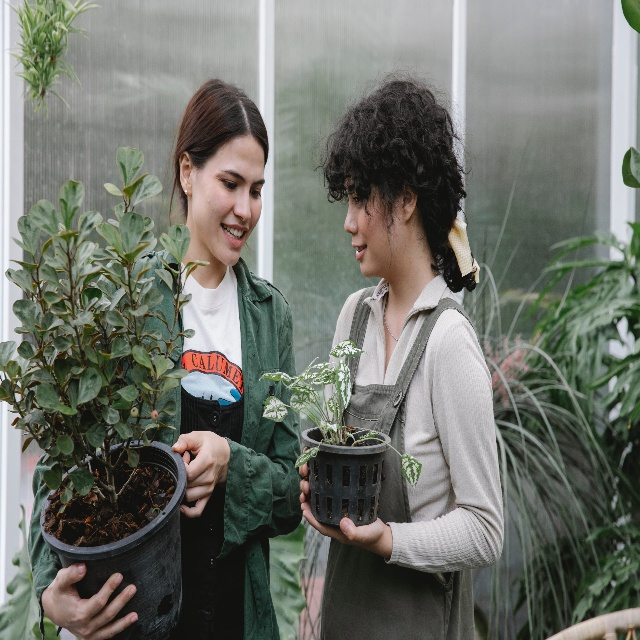Sin_guantes: (43, 563, 138, 640), (171, 431, 225, 519), (300, 500, 385, 551), (299, 447, 310, 503)
